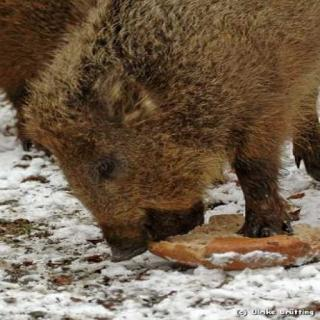Pig: (4, 0, 320, 283)
